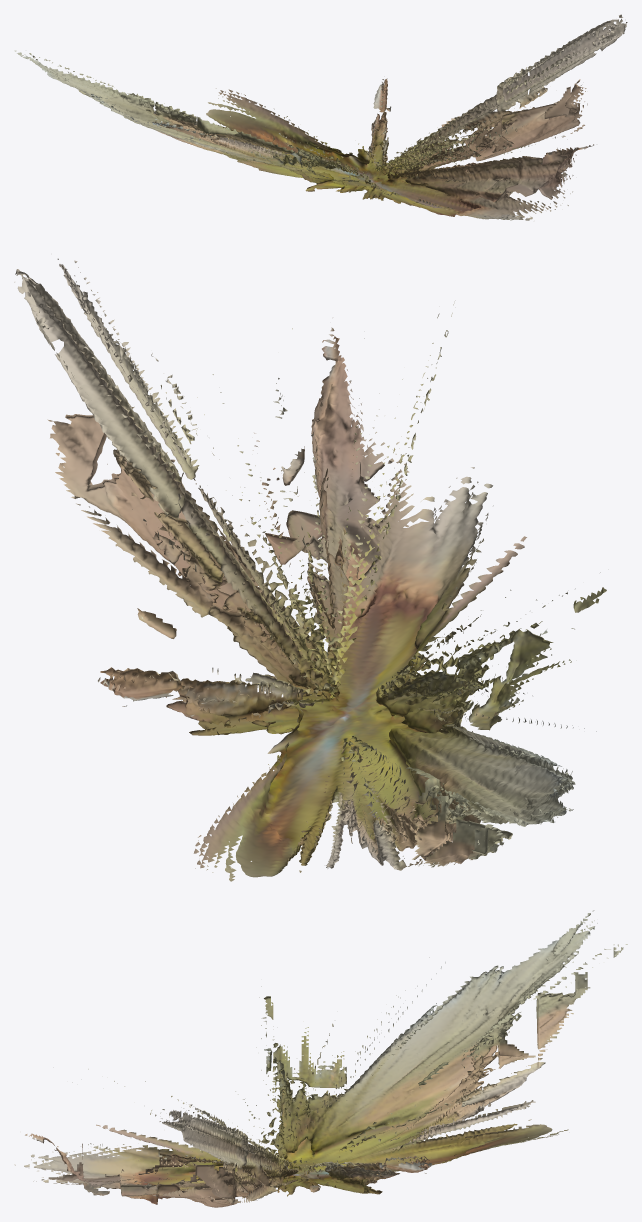
File: voyage-of-life.glb
3 views of the same model, one above another, from view 1: azimuth 30°, elevation 25°; view 2: azimuth 150°, elevation 25°; view 3: azimuth 270°, elevation 25° (orthographic). The views are drawn at different scales.
Parts seen in each view (by area): view 1: world; view 2: world; view 3: world.
Part boxes in pixels (x1,y1,x2,y2): world: (14,14,627,220); world: (14,258,606,881); world: (14,910,627,1207).
Bounding box in the file's own units: 266 × 86.22 × 257.
